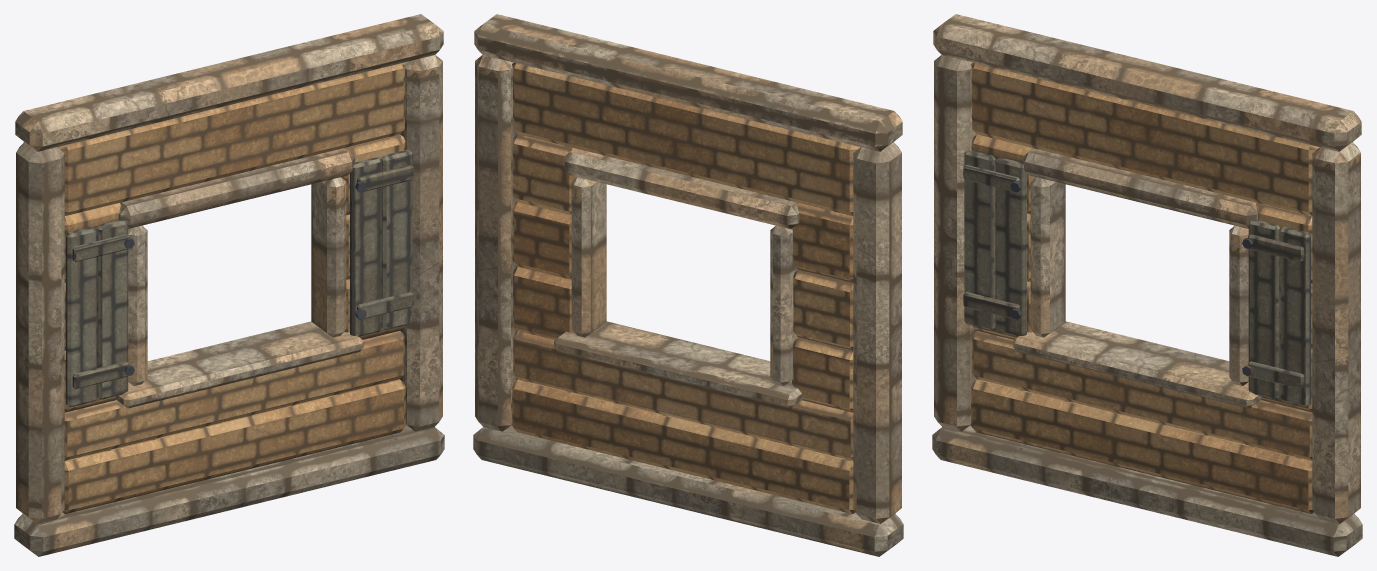
File: pencereli_duvar.glb
3 views of the same model, side by side, from view 1: azimuth 30°, elevation 25°; view 2: azimuth 150°, elevation 25°; view 3: azimuth 330°, elevation 25° (orthographic).
Visible parts, largest first — view 1: pencereli_duvar; view 2: pencereli_duvar; view 3: pencereli_duvar.
Part boxes in pixels (<box>): pencereli_duvar: <box>14,14,444,556</box>; pencereli_duvar: <box>473,14,903,556</box>; pencereli_duvar: <box>932,14,1362,556</box>.
Size of the model in its own units: 3 by 3.01 by 0.42.
Materials: 1 (1 with a texture image).
